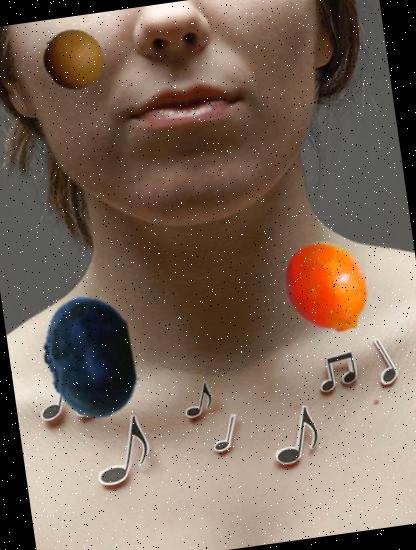Blueberry: (20, 288, 158, 428)
Orange: (37, 24, 108, 94)
Tangelo: (275, 234, 383, 342)
